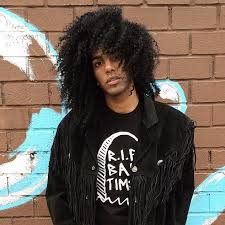black_male: (62, 7, 153, 115)
